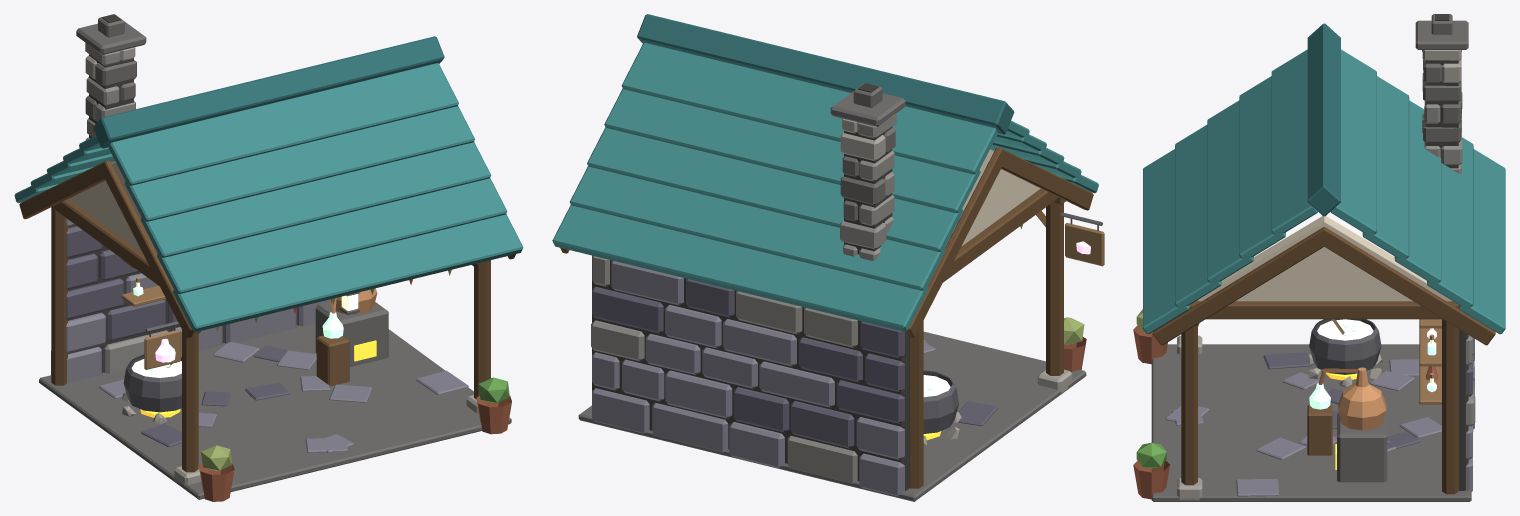
Rendered from shop_alchemy_lab.glb.
3 views of the same model, side by side, from view 1: azimuth 30°, elevation 25°; view 2: azimuth 150°, elevation 25°; view 3: azimuth 270°, elevation 25° (orthographic). The views are drawn at different scales.
Parts seen in each view (by area): view 1: AlchemyLab; view 2: AlchemyLab; view 3: AlchemyLab.
Part boxes in pixels (x1,y1,x2,y2): AlchemyLab: (14, 14, 523, 501); AlchemyLab: (552, 14, 1104, 501); AlchemyLab: (1133, 14, 1505, 501).
Bounding box in the file's own units: 4.93 × 4.74 × 4.43.
